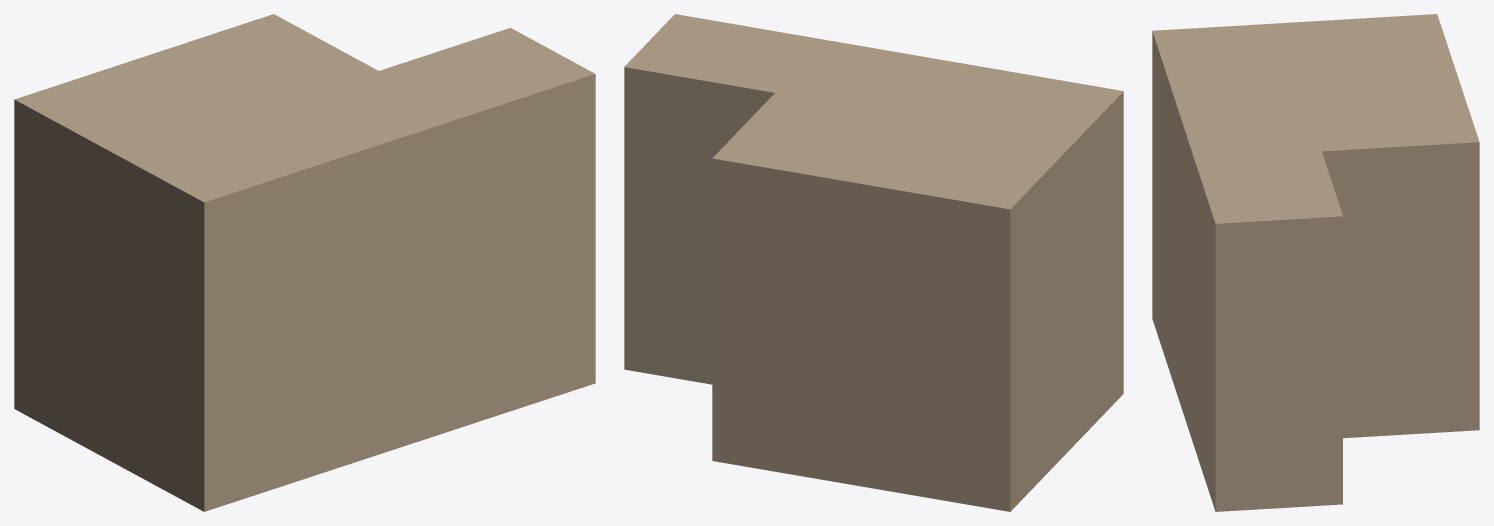
File: bld_100469796.dae
3 views of the same model, side by side, from view 1: azimuth 30°, elevation 25°; view 2: azimuth 150°, elevation 25°; view 3: azimuth 270°, elevation 25° (orthographic). The views are drawn at different scales.
Parts seen in each view (by area): view 1: bld_100469796; view 2: bld_100469796; view 3: bld_100469796.
Part boxes in pixels (left/top/right/bottom): bld_100469796: left=14, top=14, right=595, bottom=511; bld_100469796: left=624, top=14, right=1123, bottom=511; bld_100469796: left=1152, top=14, right=1479, bottom=511.
Size of the model in its own units: 12.5 by 8.23 by 8.
